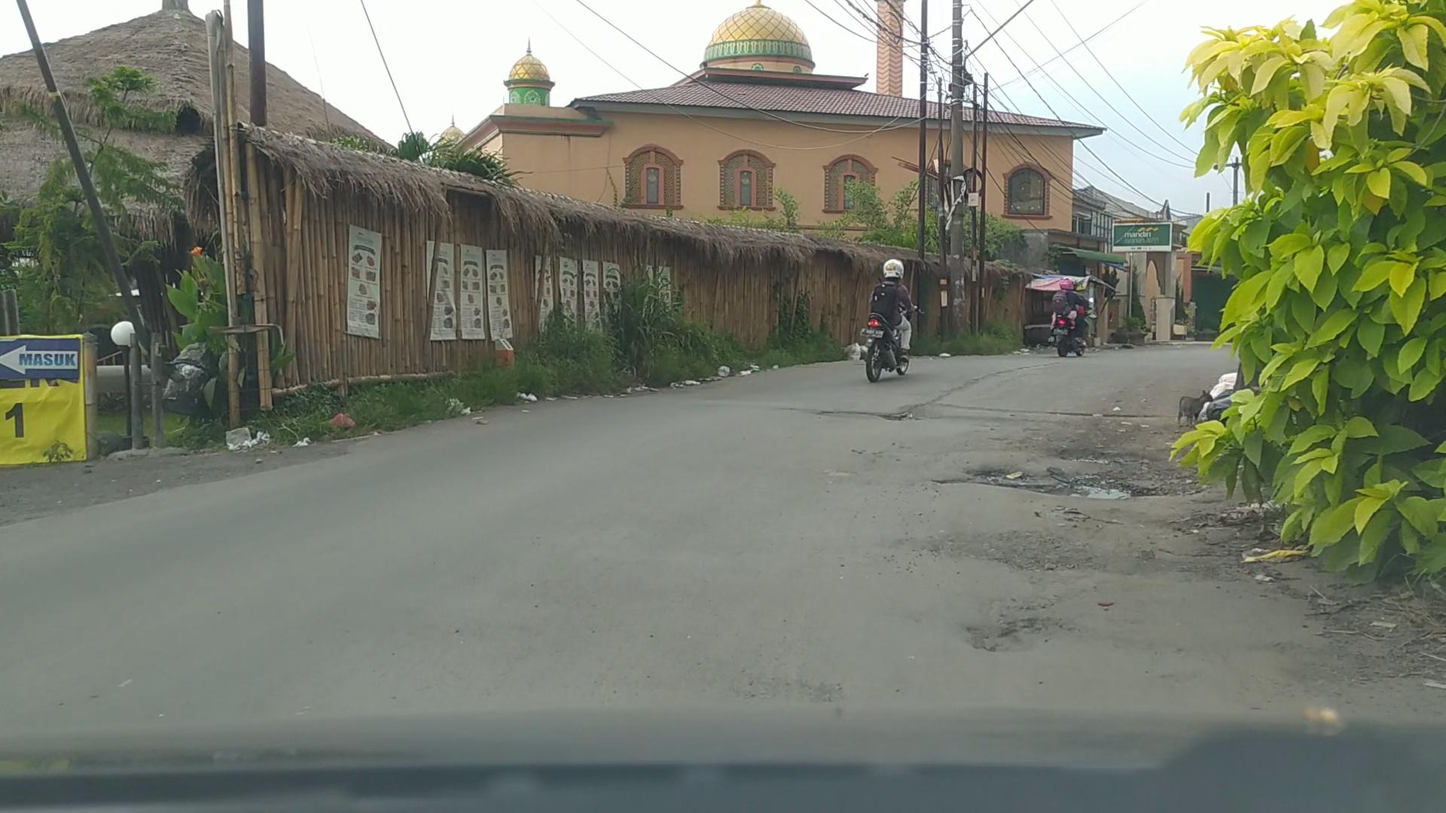pothole: (929, 448, 1196, 497), (965, 615, 1055, 653), (819, 410, 916, 422)
